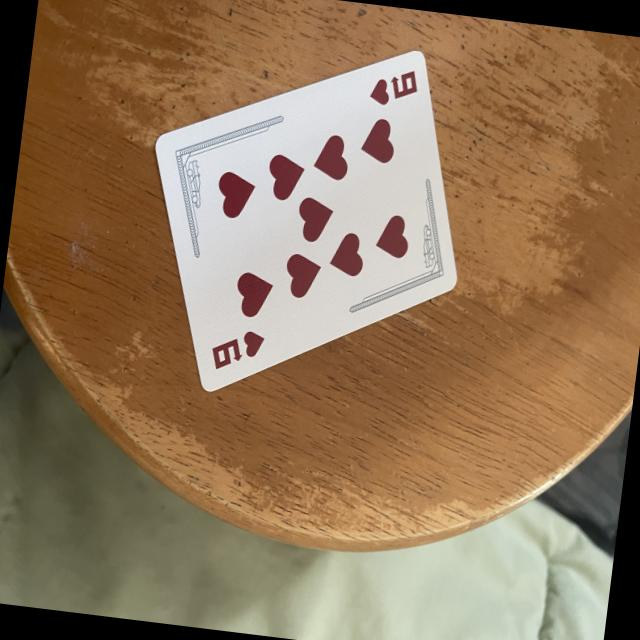9 of hearts: (149, 52, 456, 395)
